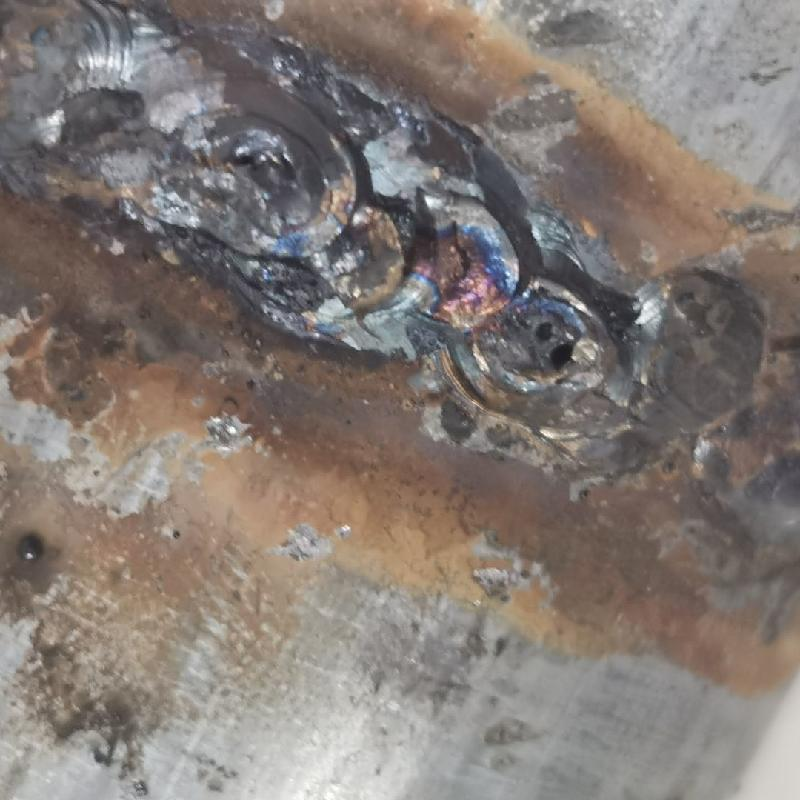Surface_pores: (521, 310, 588, 390)
crater: (149, 67, 613, 420)
wrong_size: (623, 248, 799, 553)
